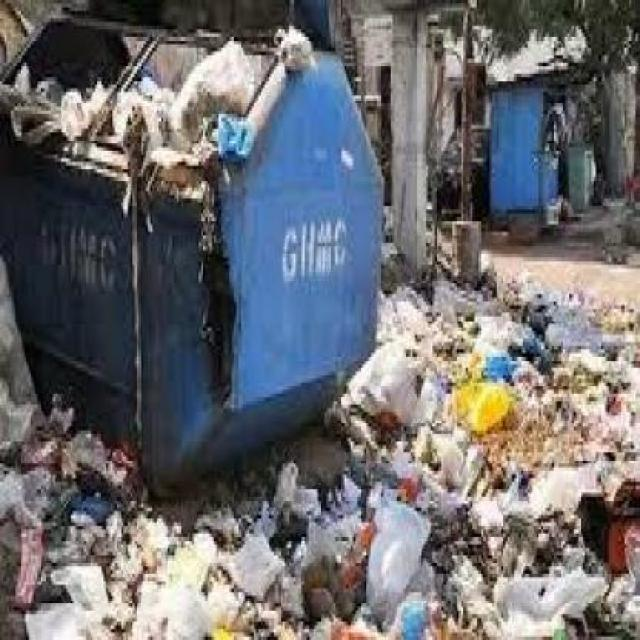garbage: (371, 283, 638, 636), (0, 468, 404, 637), (0, 34, 243, 181), (0, 386, 142, 508)
